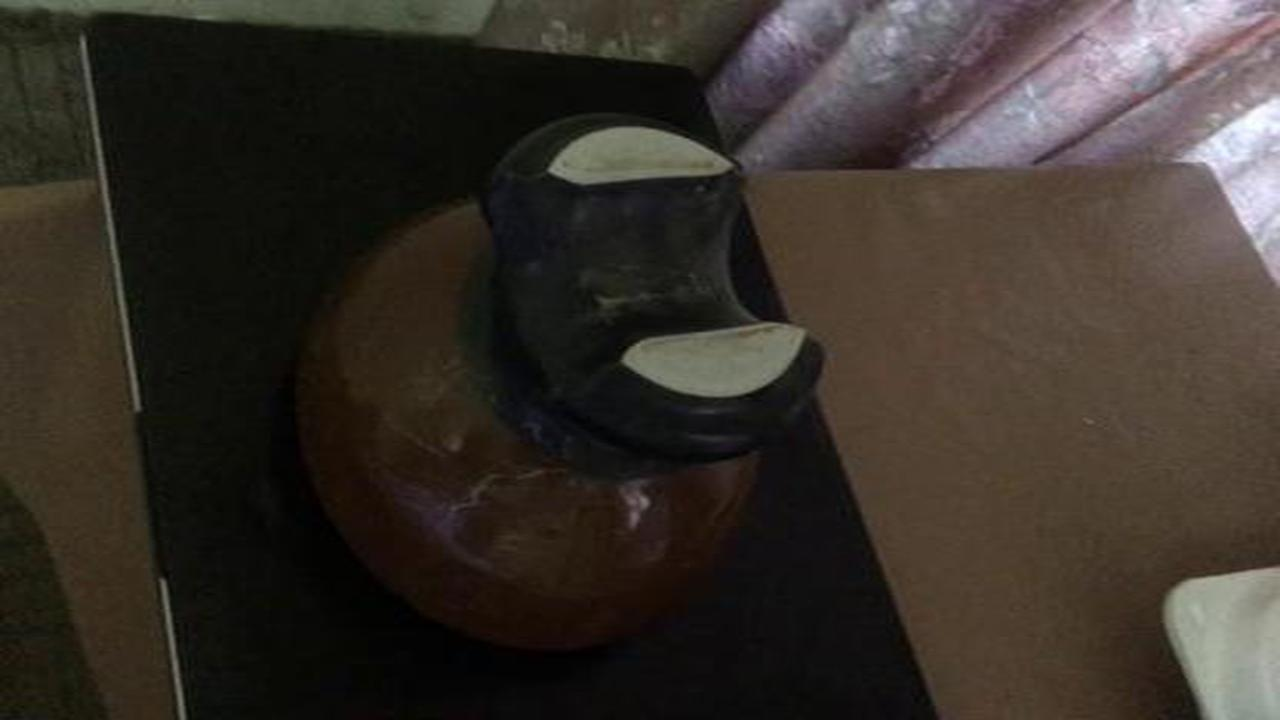insulator_pin: (280, 108, 871, 677)
